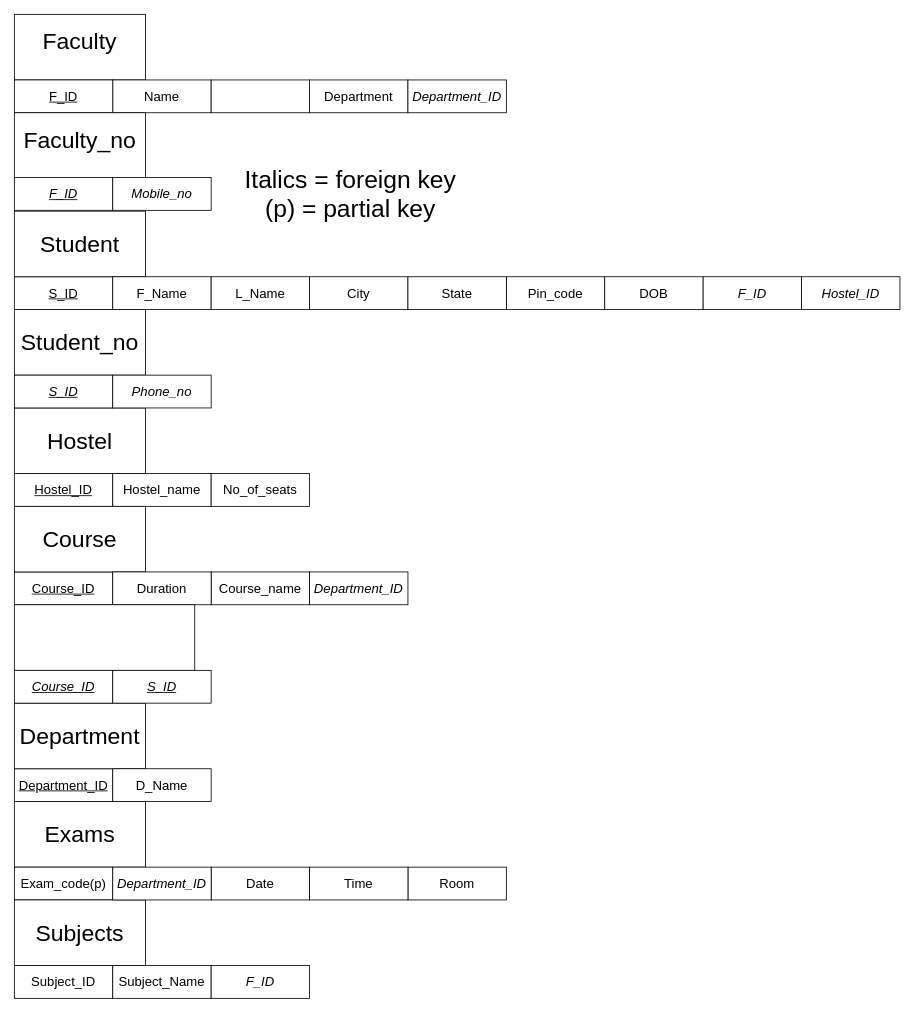
The diagram is 914 pixels wide and 1013 high, and some of its shapes have lost their labels. The box of each missing label's shape, as (x1, y1, x2, y2) in pixels:
Salary: (210, 79, 310, 113)
Student_Course: (14, 604, 195, 670)
